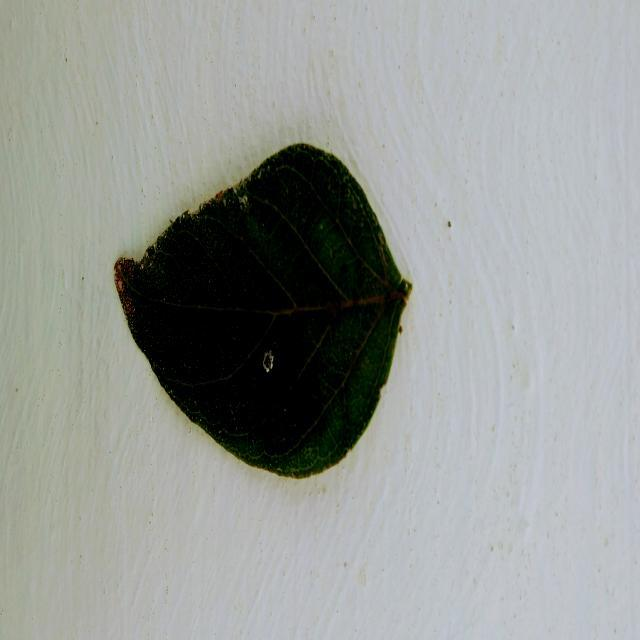leaf: (112, 141, 413, 479)
